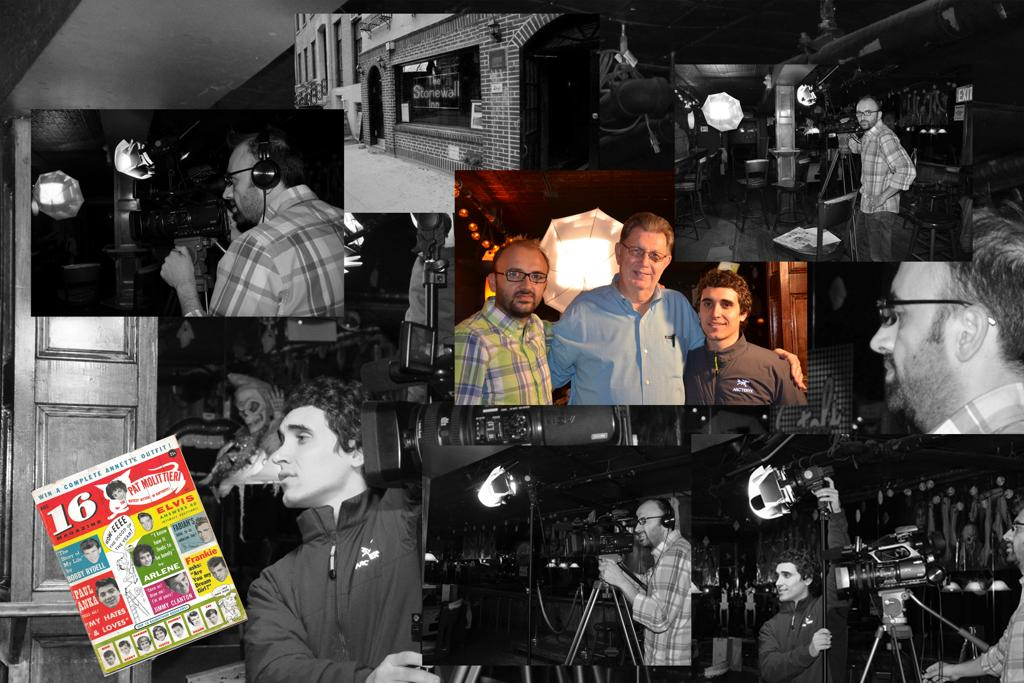face: (870, 260, 957, 413), (271, 414, 346, 508), (495, 251, 547, 316), (221, 153, 261, 232), (621, 230, 667, 289), (700, 288, 740, 339), (634, 506, 661, 546), (775, 564, 803, 601), (855, 99, 876, 129), (98, 585, 120, 607), (170, 575, 189, 594), (197, 523, 212, 542), (210, 563, 225, 581), (84, 548, 99, 563), (138, 552, 152, 567), (139, 517, 152, 531), (111, 488, 124, 499), (173, 626, 183, 637), (120, 646, 130, 656), (190, 615, 200, 625), (207, 614, 217, 624), (105, 654, 114, 664), (140, 640, 149, 650), (155, 630, 164, 640)
